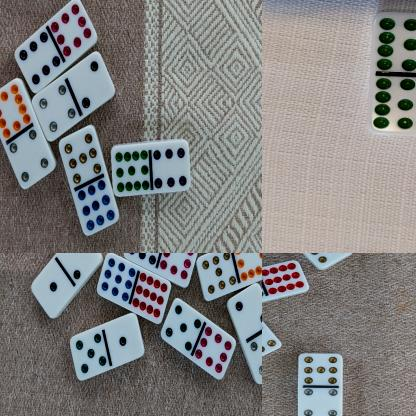pip-1: (30, 266, 68, 318), (106, 314, 144, 366)
pip-10: (0, 79, 30, 140), (233, 253, 262, 282)
pip-11: (364, 75, 416, 136), (369, 12, 416, 76), (111, 143, 149, 198)
pip-12: (131, 272, 170, 325), (262, 261, 308, 296)
pip-2: (68, 53, 114, 109), (227, 285, 262, 339), (62, 253, 102, 282)
pip-4: (8, 129, 53, 191), (31, 86, 75, 141), (296, 387, 342, 416), (249, 333, 262, 386)
pip-5: (162, 299, 200, 353), (69, 332, 107, 382)
pip-6: (13, 33, 60, 94), (151, 140, 190, 194), (123, 253, 161, 265)
pip-7: (58, 126, 100, 186), (195, 253, 235, 303), (296, 353, 343, 388), (300, 253, 353, 272), (262, 320, 281, 359)
pip-8: (49, 0, 96, 58), (195, 328, 235, 382), (159, 253, 197, 288)
pip-9: (77, 182, 118, 237), (96, 253, 134, 303)
